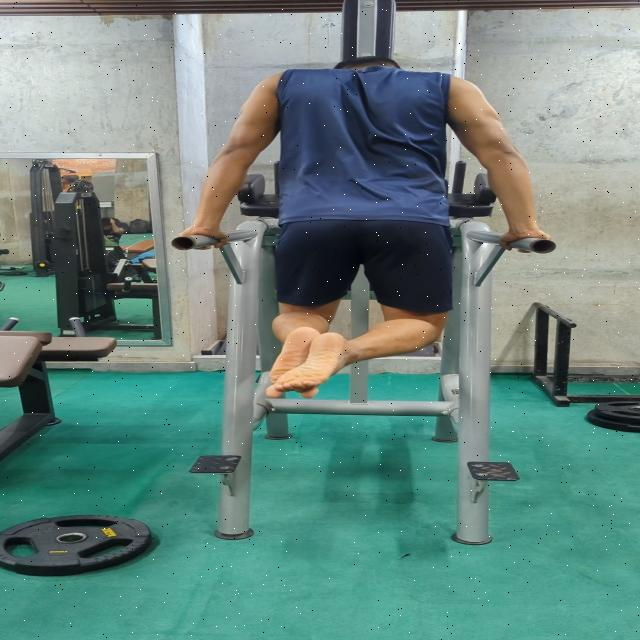Normal_Dips: (166, 55, 554, 405)
